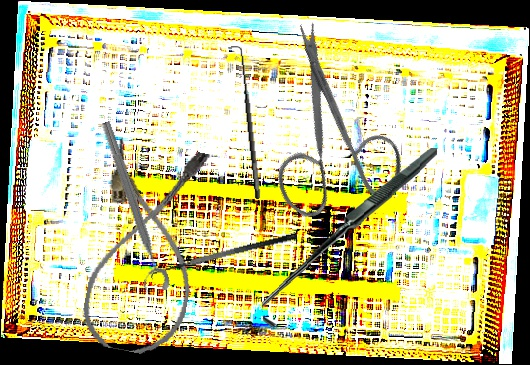Cannula: (76, 136, 217, 361)
Fixation Ring: (87, 119, 173, 297)
Hook Surgical: (257, 147, 443, 328), (227, 44, 263, 201)
Iris Scissors: (207, 17, 442, 248)
Spatula Surgical: (148, 231, 301, 286)
